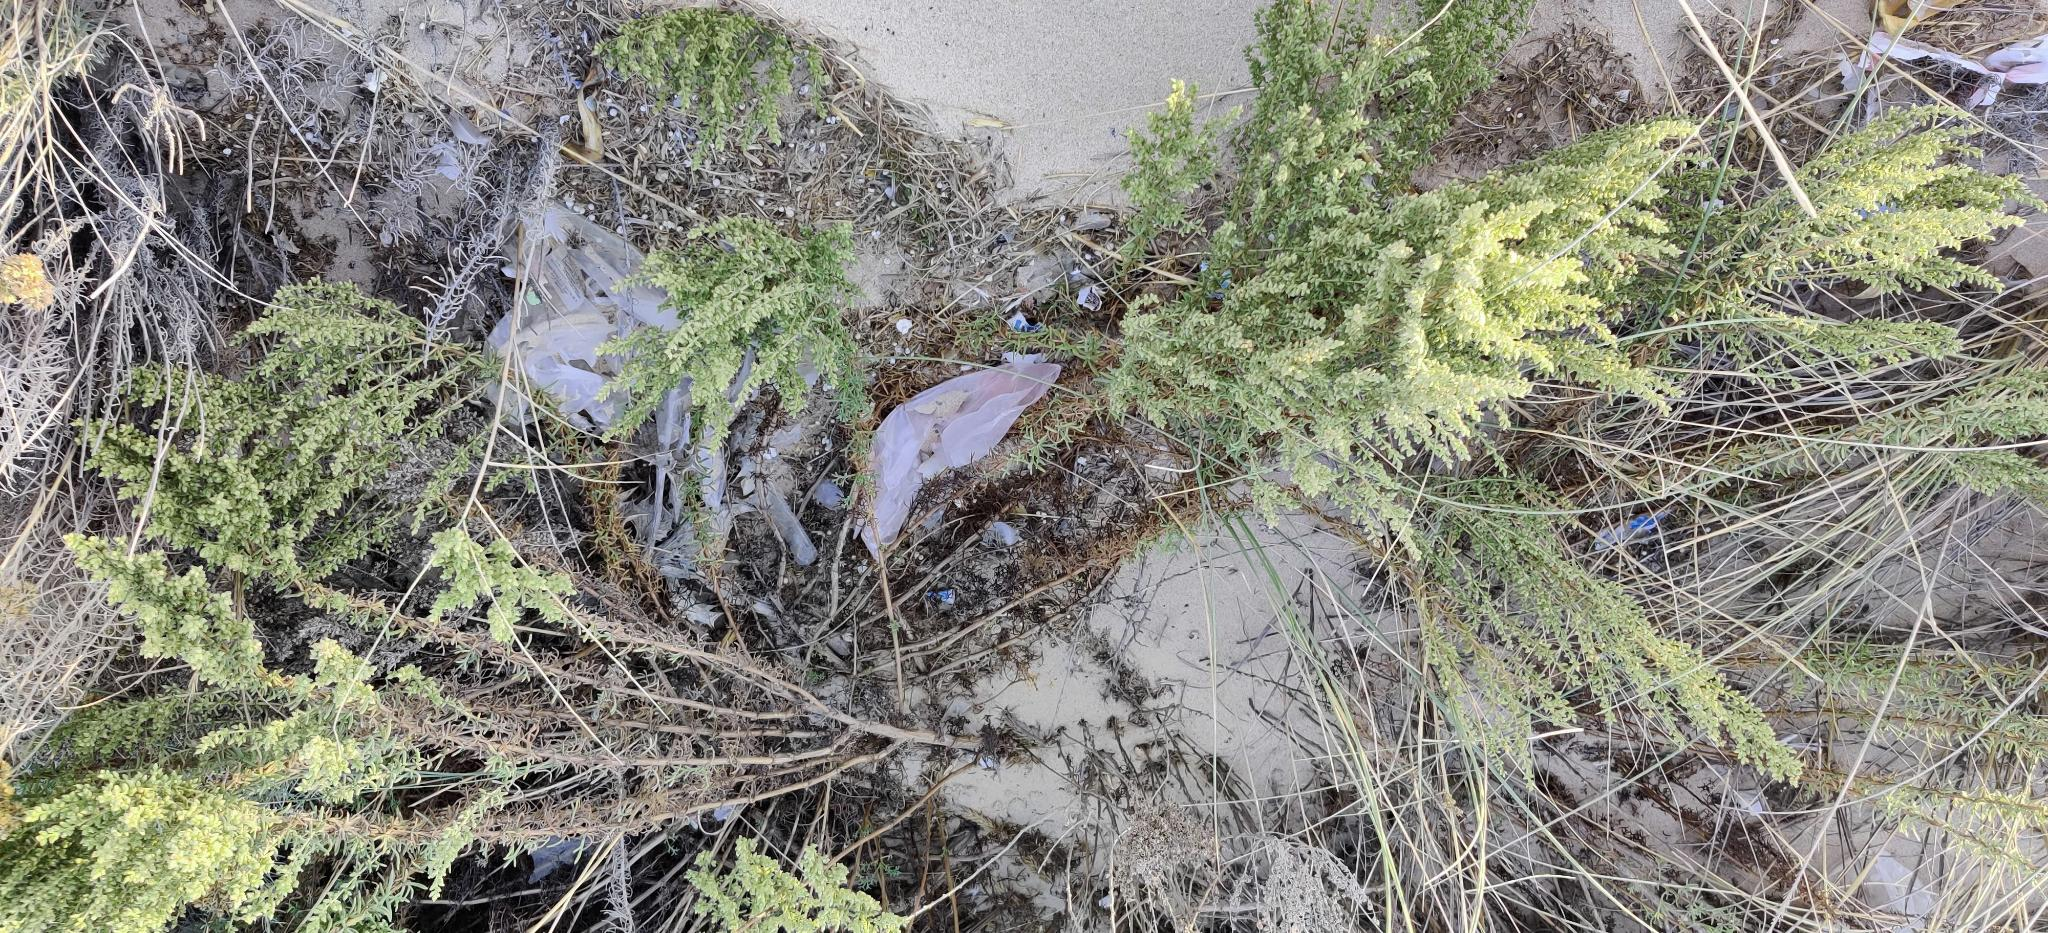Metal: (913, 580, 959, 615)
Plastic: (475, 179, 741, 521), (854, 353, 1070, 565), (977, 514, 1033, 553)
